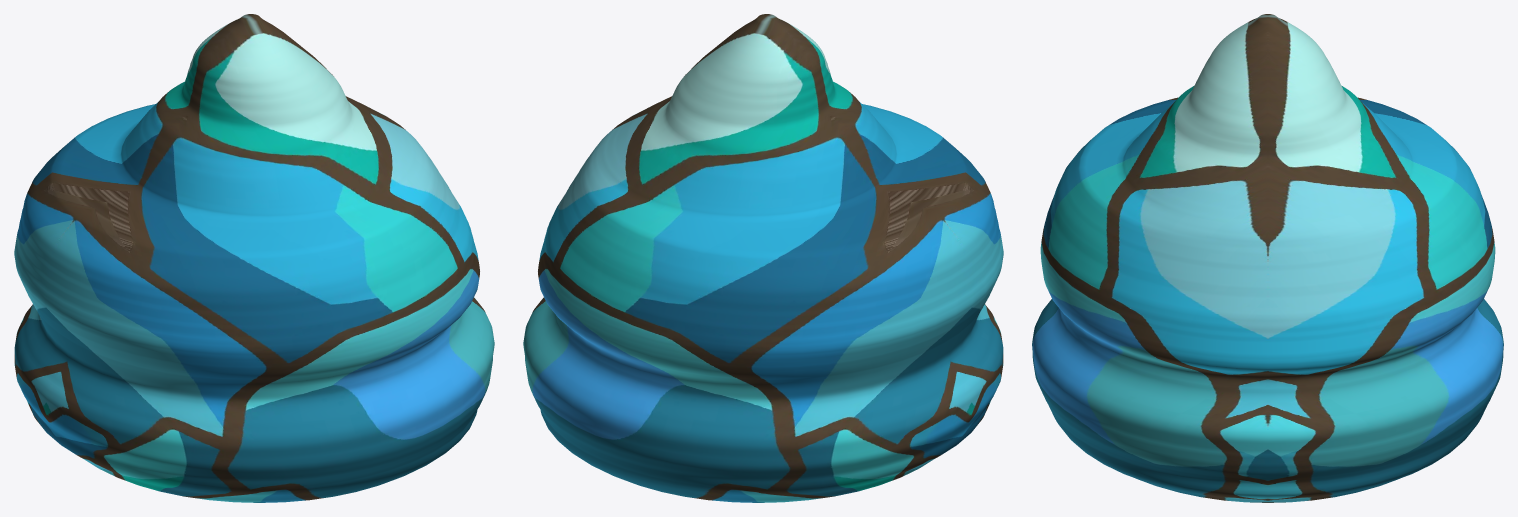
Rendered from blue_crystals.glb.
3 views of the same model, side by side, from view 1: azimuth 30°, elevation 25°; view 2: azimuth 150°, elevation 25°; view 3: azimuth 270°, elevation 25° (orthographic).
Visible parts, largest first — view 1: blue_crystals; view 2: blue_crystals; view 3: blue_crystals.
Boxes of the visible parts, x1,y1,x2,y2 form: blue_crystals: (14, 14, 494, 502); blue_crystals: (523, 14, 1003, 502); blue_crystals: (1032, 14, 1503, 502).
Size of the model in its own units: 0.998 by 1 by 0.9935.
1 material, 1 textured.
